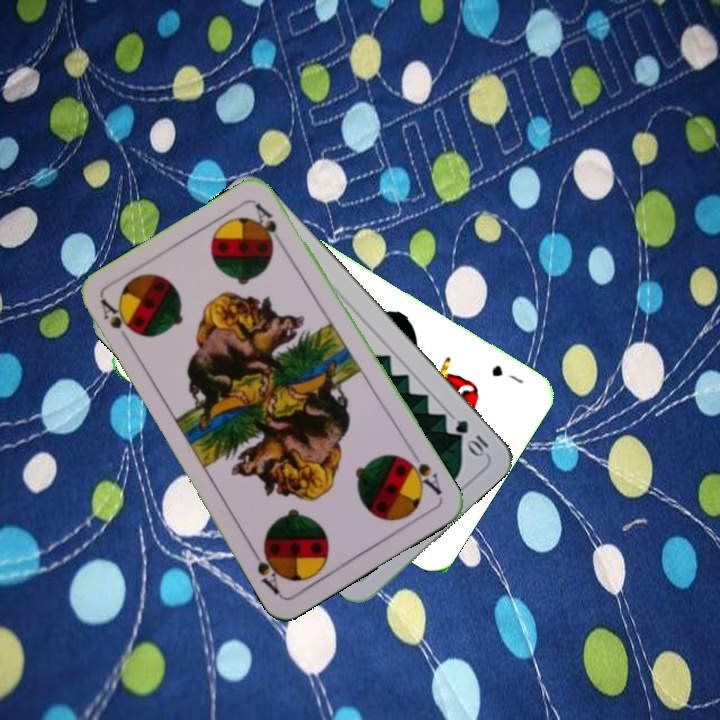G10: (451, 415, 491, 459)
GU: (487, 360, 526, 387)
SA: (96, 295, 136, 349), (399, 452, 445, 498)
